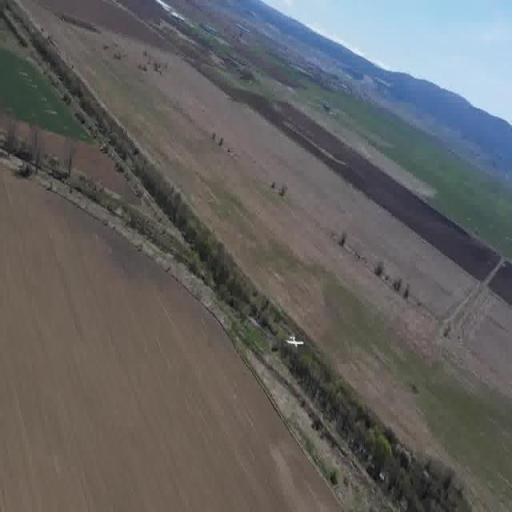uav: (280, 330, 308, 357)
